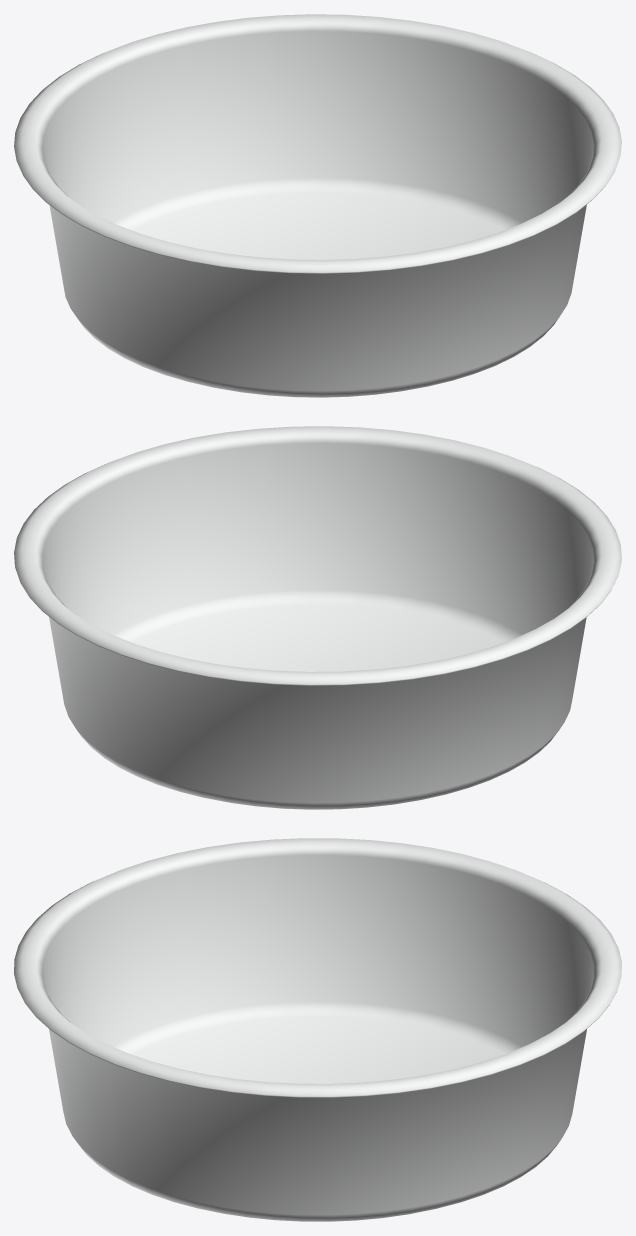
Rendered from Bowl.fbx.
3 views of the same model, one above another, from view 1: azimuth 30°, elevation 25°; view 2: azimuth 150°, elevation 25°; view 3: azimuth 270°, elevation 25° (orthographic).
Parts seen in each view (by area): view 1: Bowl; view 2: Bowl; view 3: Bowl.
Boxes of the visible parts, x1=… form: Bowl: x1=14, y1=14, x2=621, y2=397; Bowl: x1=14, y1=426, x2=621, y2=809; Bowl: x1=14, y1=838, x2=621, y2=1221.
Size of the model in its own units: 21.77 by 6.33 by 21.77.
